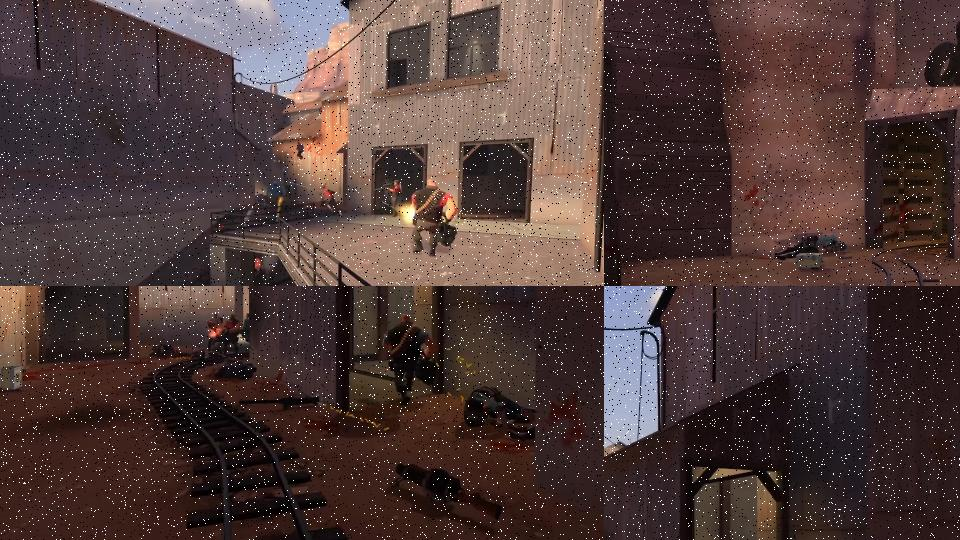Enemy: (381, 313, 440, 406), (463, 385, 537, 442), (409, 179, 458, 258), (774, 233, 846, 261), (373, 179, 403, 218), (219, 314, 243, 357), (318, 187, 344, 218), (207, 313, 225, 353)
